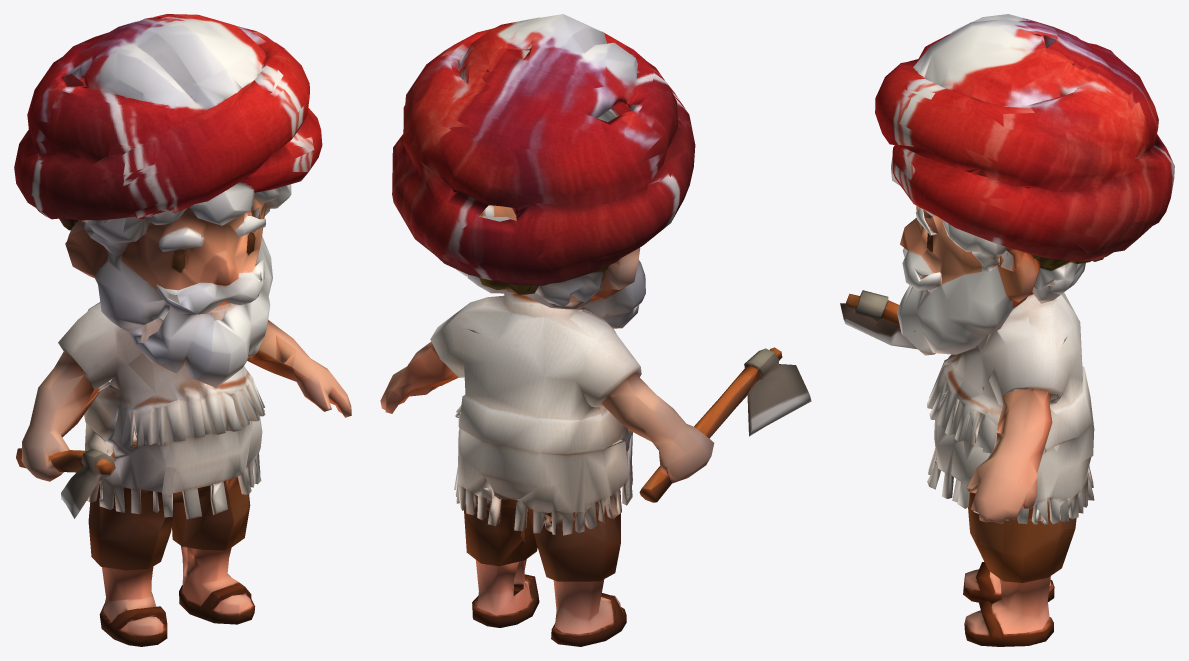
Rendered from tapoh_textured.glb.
3 renders of one model, left to right at view 1: azimuth 30°, elevation 25°; view 2: azimuth 150°, elevation 25°; view 3: azimuth 270°, elevation 25°, orthographic.
Visible parts, largest first — view 1: trellis.001; view 2: trellis.001; view 3: trellis.001.
Part boxes in pixels (box(x1,y1,x2,y2)): trellis.001: box(14, 14, 351, 646); trellis.001: box(380, 14, 811, 646); trellis.001: box(840, 14, 1174, 646).
Size of the model in its own units: 0.7047 by 1.15 by 0.5921.
1 material, 1 textured.
